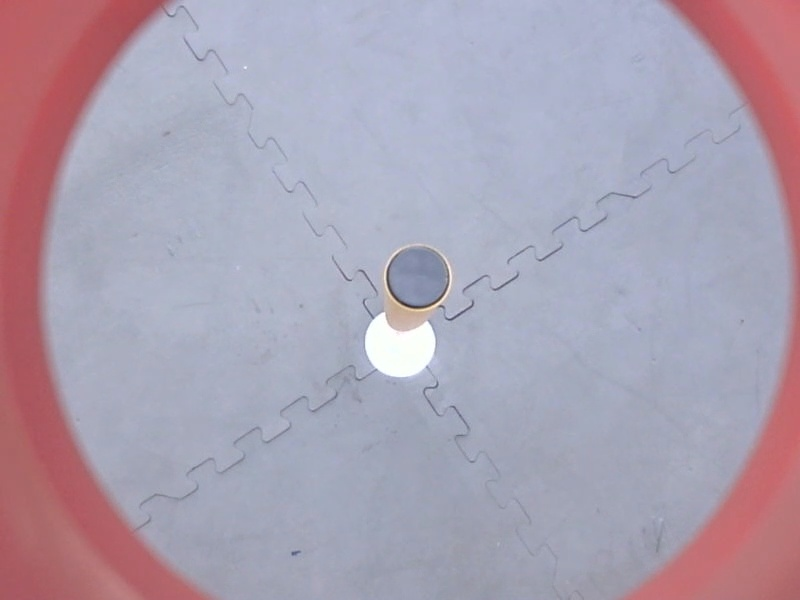tip: (380, 241, 455, 316)
